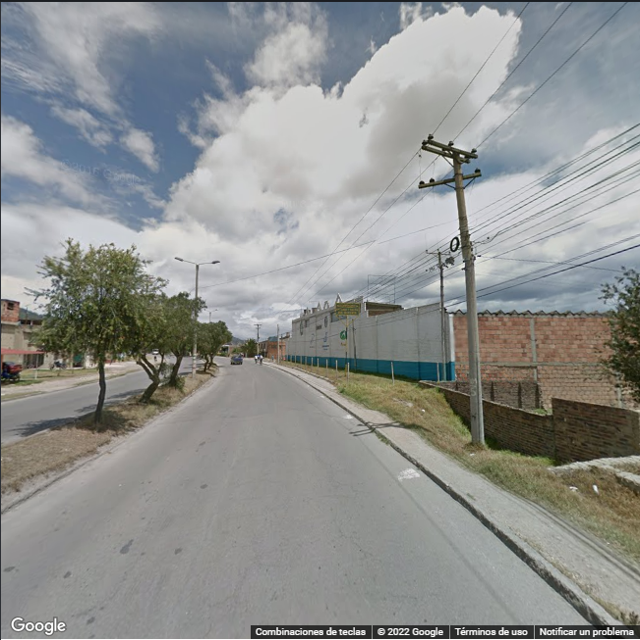D00: (107, 535, 147, 612), (321, 515, 374, 565)
